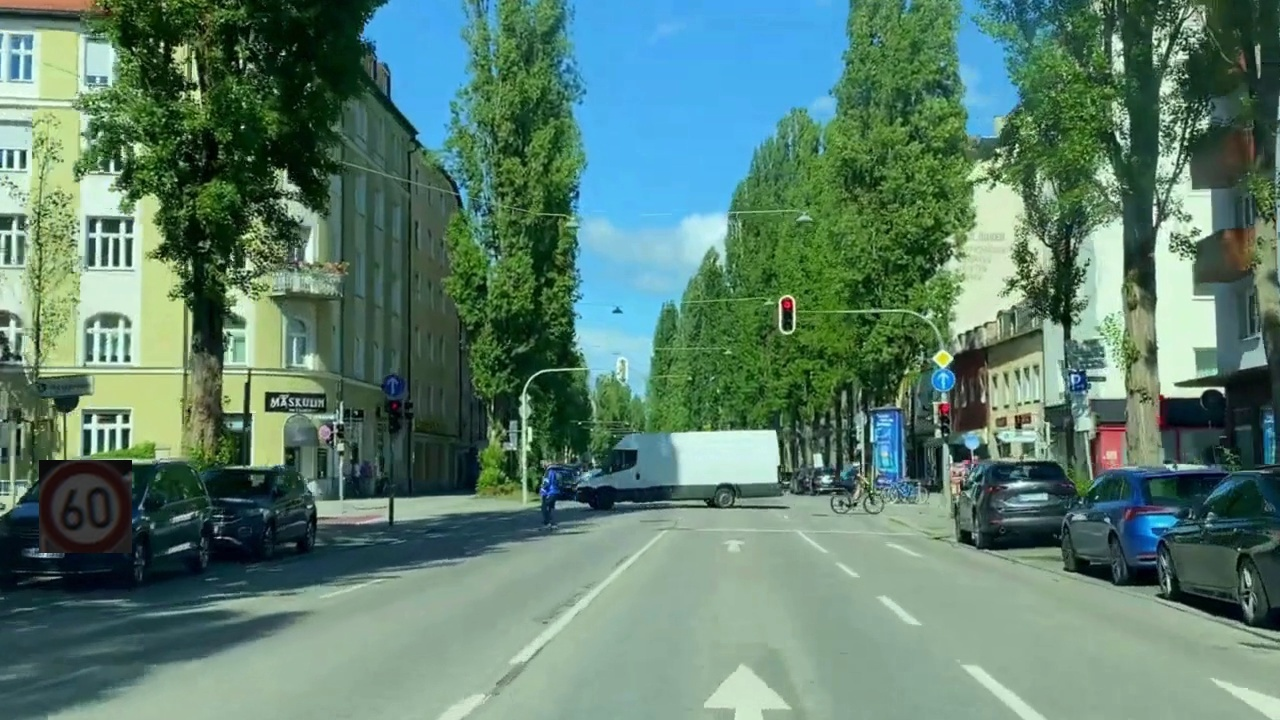Speed 60: (39, 460, 132, 553)
